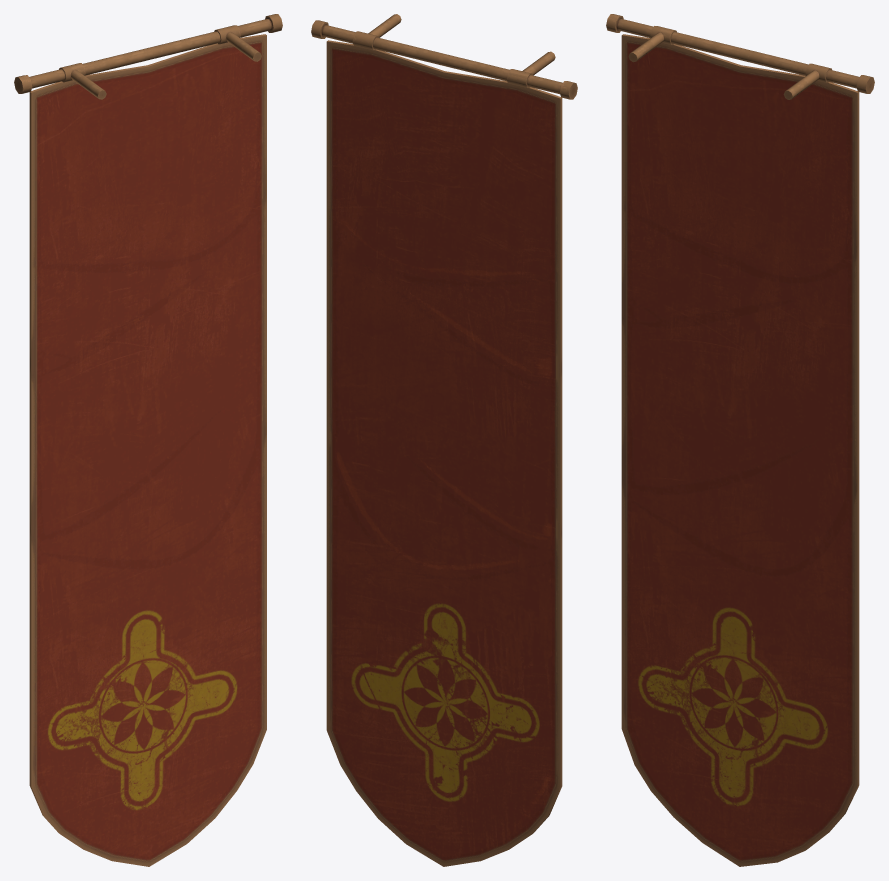
Rendered from ARC0510107.fbx.
The picture shows the model from 3 angles, left to right: view 1: azimuth 30°, elevation 25°; view 2: azimuth 150°, elevation 25°; view 3: azimuth 330°, elevation 25°; orthographic projection.
Parts seen in each view (by area): view 1: smARC0510107; view 2: smARC0510107; view 3: smARC0510107.
Boxes of the visible parts, x1,y1,x2,y2 form: smARC0510107: (14, 14, 282, 866); smARC0510107: (311, 14, 577, 866); smARC0510107: (606, 14, 874, 866).
Size of the model in its own units: 150 by 452 by 35.13.
1 material, 1 textured.
